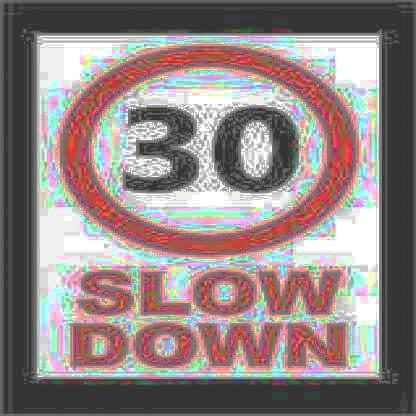Speed Limit -30-: (56, 43, 363, 263)
